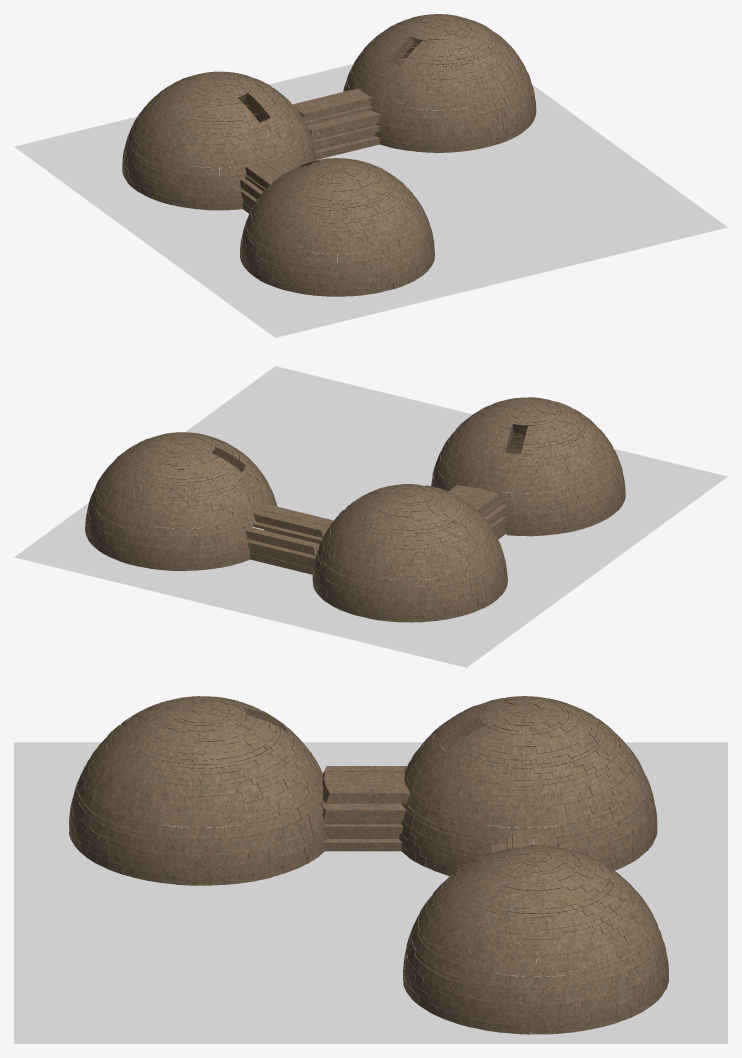
Rendered from Cave.fbx.
The picture shows the model from 3 angles, top to bottom: view 1: azimuth 30°, elevation 25°; view 2: azimuth 150°, elevation 25°; view 3: azimuth 270°, elevation 25°; orthographic projection. The views are drawn at different scales.
Visible parts, largest first — view 1: Plane, Wall.002, Wall.001, Wall; view 2: Plane, Wall.002, Wall, Wall.001; view 3: Plane, Wall.002, Wall, Wall.001.
Boxes of the visible parts, box(x1,y1,x2,y2) form: Plane: box(14, 64, 727, 337); Wall.002: box(292, 14, 536, 159); Wall.001: box(240, 158, 434, 296); Wall: box(122, 71, 316, 213); Plane: box(14, 366, 727, 667); Wall.002: box(85, 432, 333, 574); Wall: box(312, 484, 507, 622); Wall.001: box(431, 397, 625, 536); Plane: box(14, 742, 727, 1043); Wall.002: box(403, 830, 668, 1034); Wall: box(322, 696, 657, 875); Wall.001: box(69, 696, 327, 885).
Bounding box in the file's own units: 4257 × 795 × 4257.
8 materials, 7 textured.
